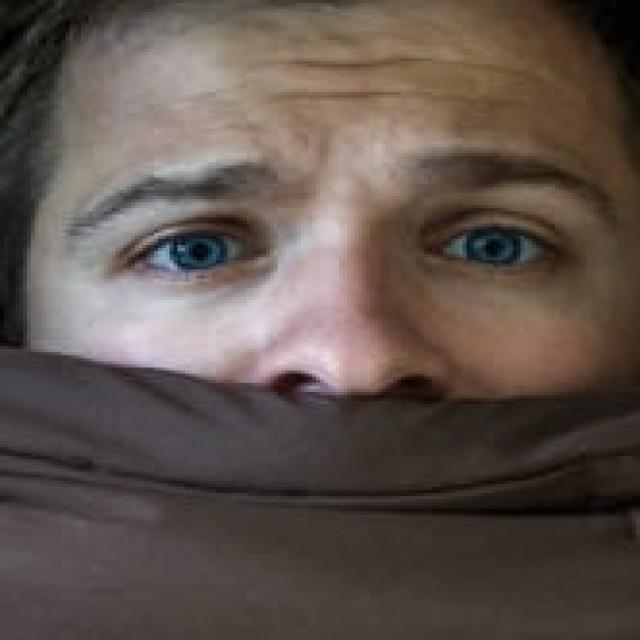Anxiety: (24, 0, 636, 637)
